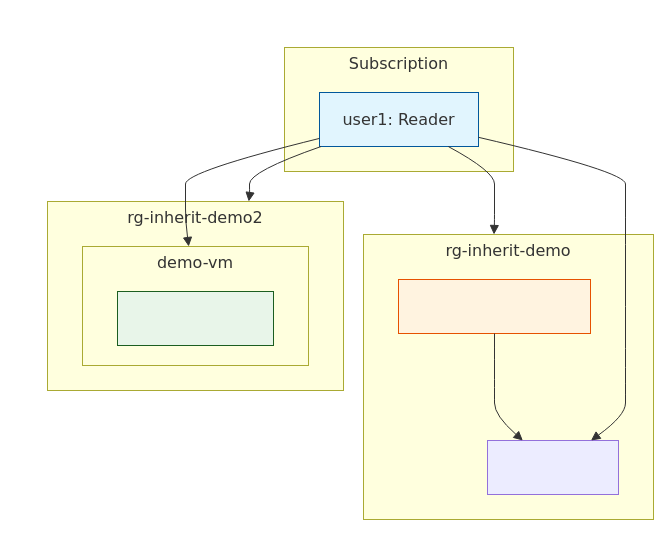
Some shapes in this 671 by 537 pixel diagram are drawn without their labels. Here are the shapes that lost their labels. From the top down, the centre of each, then its label:
At point (195, 318): "user3: Owner".
At point (494, 306): "user2: Contributor".
At point (552, 467): "Resources".
